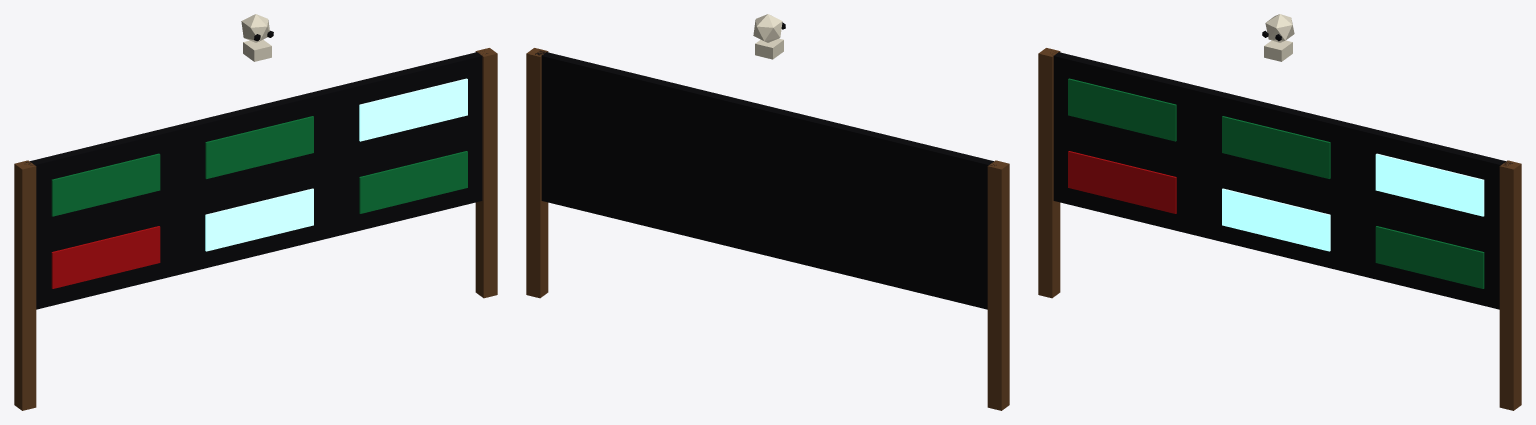
File: Prop_OR_OddsBoard_15.glb
3 renders of one model, left to right at view 1: azimuth 30°, elevation 25°; view 2: azimuth 150°, elevation 25°; view 3: azimuth 330°, elevation 25°, orthographic.
Parts seen in each view (by area): view 1: Prop_OR_OddsBoard_15; view 2: Prop_OR_OddsBoard_15; view 3: Prop_OR_OddsBoard_15.
Part boxes in pixels (bbox=[...]): Prop_OR_OddsBoard_15: bbox=[14, 14, 497, 410]; Prop_OR_OddsBoard_15: bbox=[526, 14, 1009, 410]; Prop_OR_OddsBoard_15: bbox=[1038, 14, 1521, 410].
Size of the model in its own units: 5.15 by 3.48 by 0.3057.
